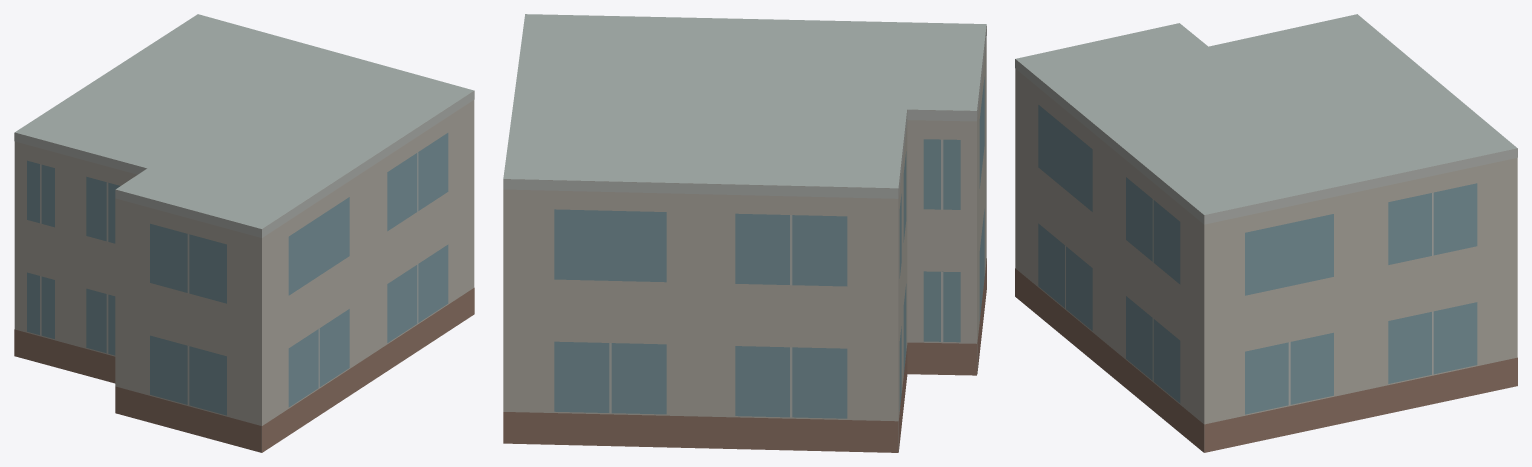
Rendered from survey-upis-32829059.glb.
3 views of the same model, side by side, from view 1: azimuth 30°, elevation 25°; view 2: azimuth 150°, elevation 25°; view 3: azimuth 270°, elevation 25° (orthographic). The views are drawn at different scales.
Visible parts, largest first — view 1: survey-upis-32829059.tmp; view 2: survey-upis-32829059.tmp; view 3: survey-upis-32829059.tmp.
Part boxes in pixels (x1,y1,x2,y2): survey-upis-32829059.tmp: (14, 14, 474, 452); survey-upis-32829059.tmp: (503, 14, 986, 452); survey-upis-32829059.tmp: (1015, 14, 1517, 452).
Bounding box in the file's own units: 11.08 × 6.1 × 11.7.
